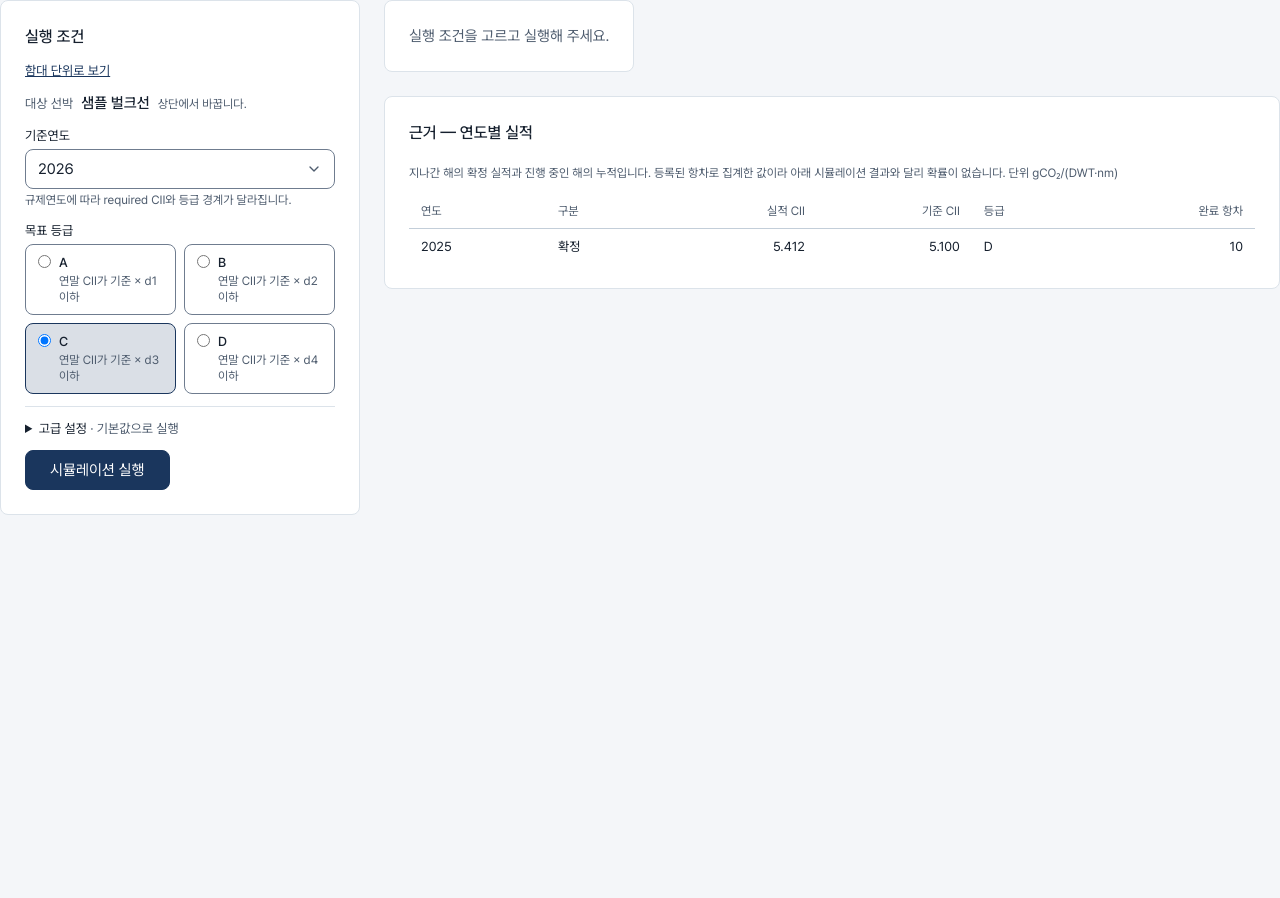
Test case: 이 seed로 다시 실행 (#776) › 새로 실행하면 직전 결과의 재현 확인이 남지 않는다
Click the button "시뮬레이션 실행" at {"x": 97, "y": 470}, box 25,450 -> 170,490
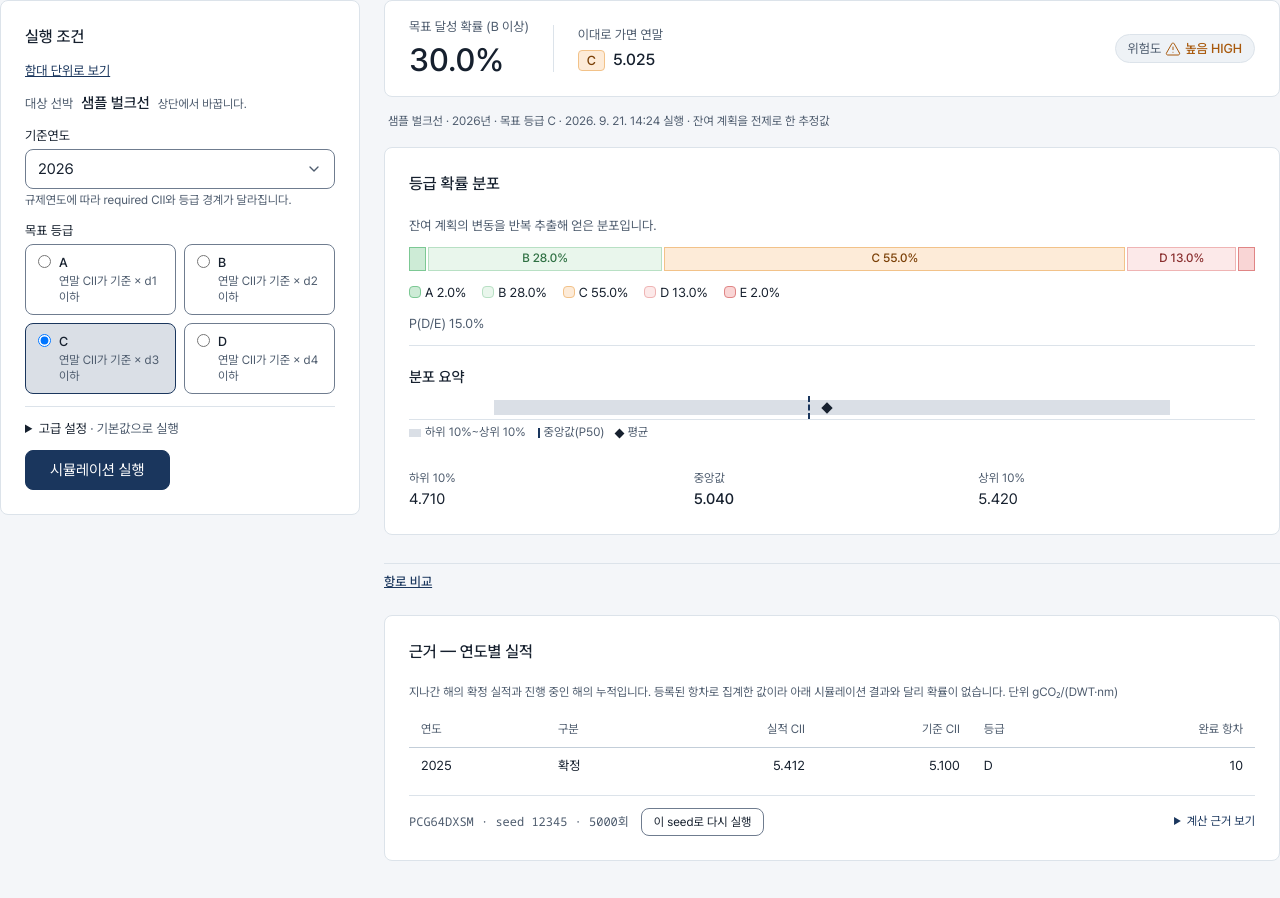
Click the button "이 seed로 다시 실행" at {"x": 703, "y": 822}, box 641,808 -> 764,836
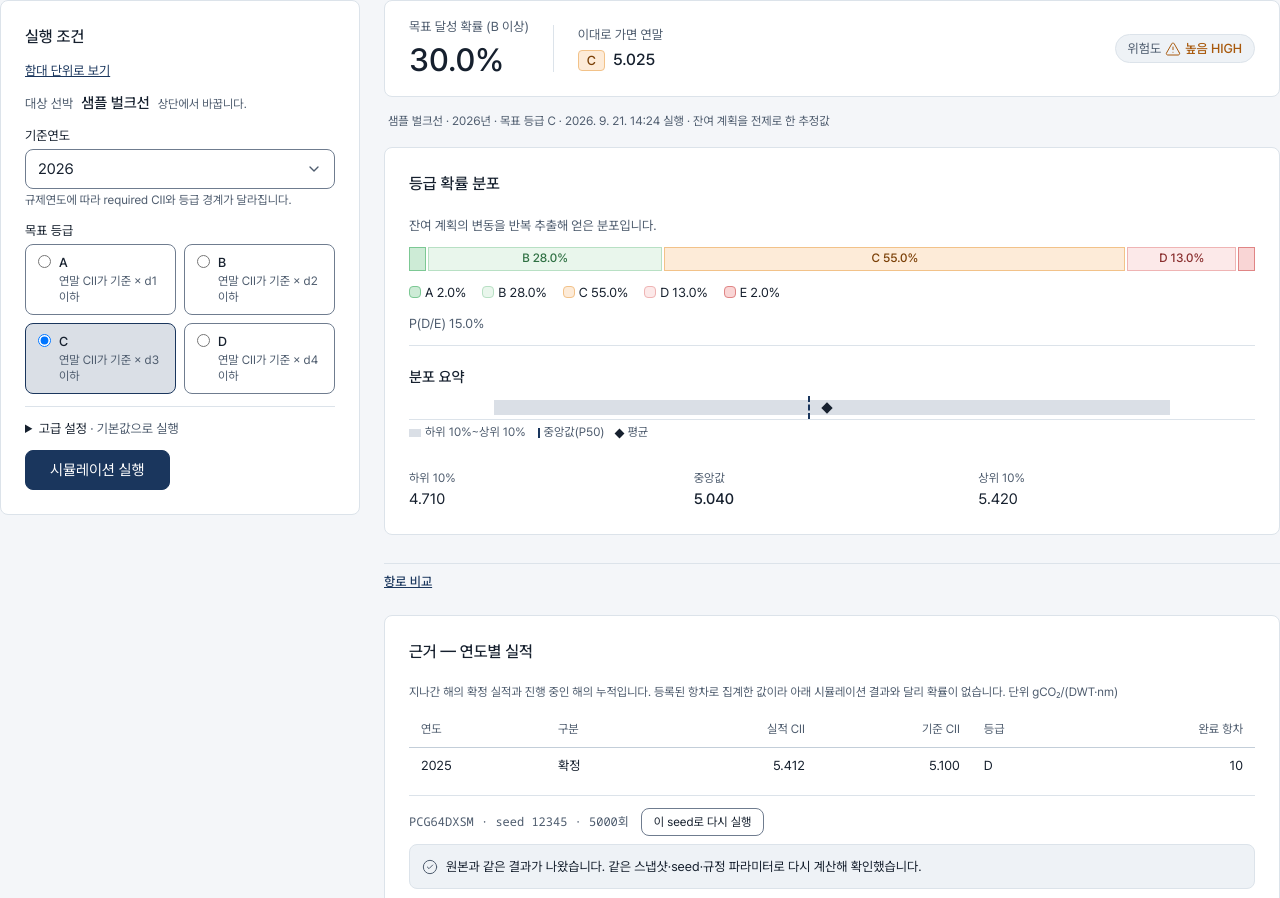
Expected: the text "원본과 같은 결과가 나왔습니다. 같은 스냅샷·seed·규정 파라미터로 다시 계산해 확인했습니다." is shown, 446,857 -> 922,876
Click the button "시뮬레이션 실행" at {"x": 97, "y": 470}, box 25,450 -> 170,490
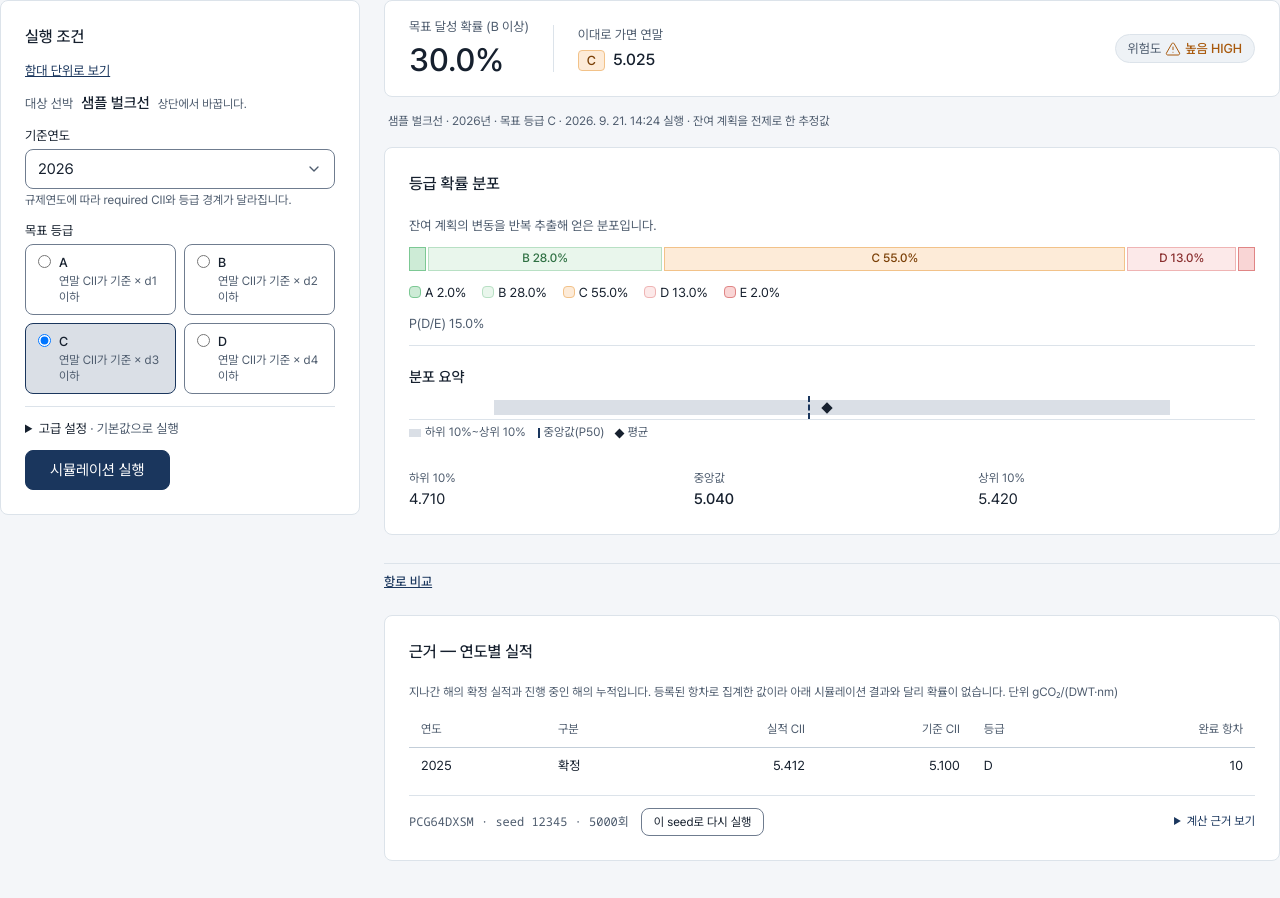
Expected: the text "원본과 같은 결과가 나왔습니다. 같은 스냅샷·seed·규정 파라미터로 다시 계산해 확인했습니다." is gone
